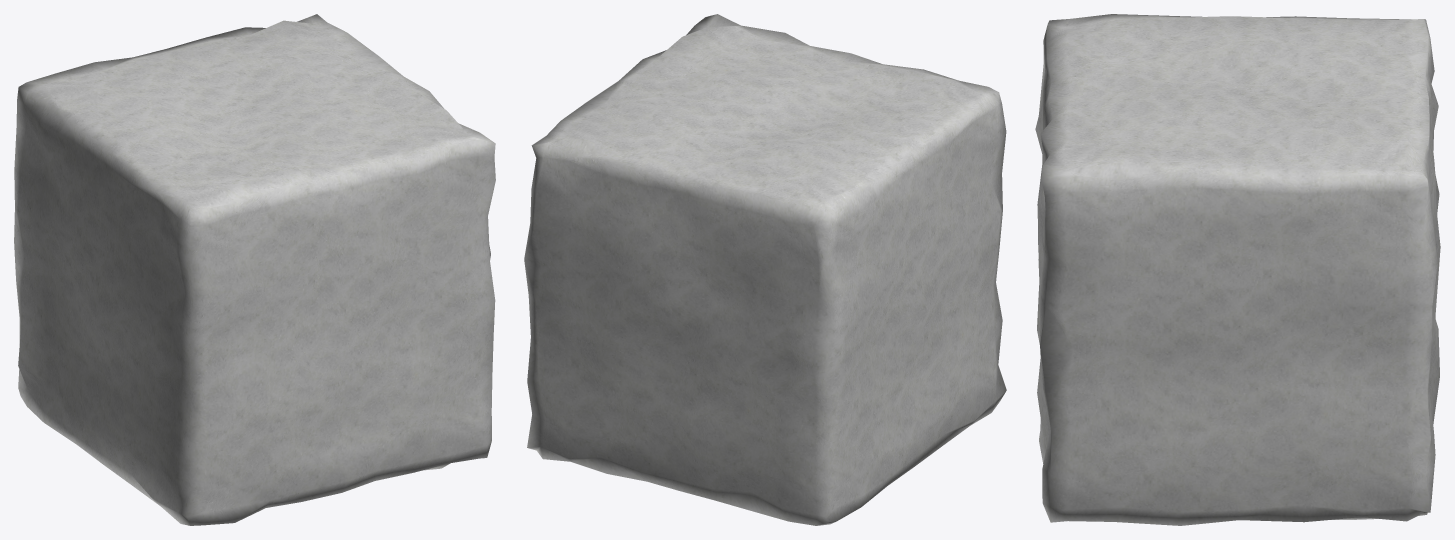
The model's file is sugar.fbx.
3 views of the same model, side by side, from view 1: azimuth 30°, elevation 25°; view 2: azimuth 150°, elevation 25°; view 3: azimuth 270°, elevation 25° (orthographic). The views are drawn at different scales.
Parts seen in each view (by area): view 1: sugar; view 2: sugar; view 3: sugar.
Part boxes in pixels (<box>): sugar: <box>14,14,495,525</box>; sugar: <box>524,14,1006,525</box>; sugar: <box>1035,14,1440,525</box>.
Size of the model in its own units: 207 by 207 by 208.
1 material, 1 textured.
